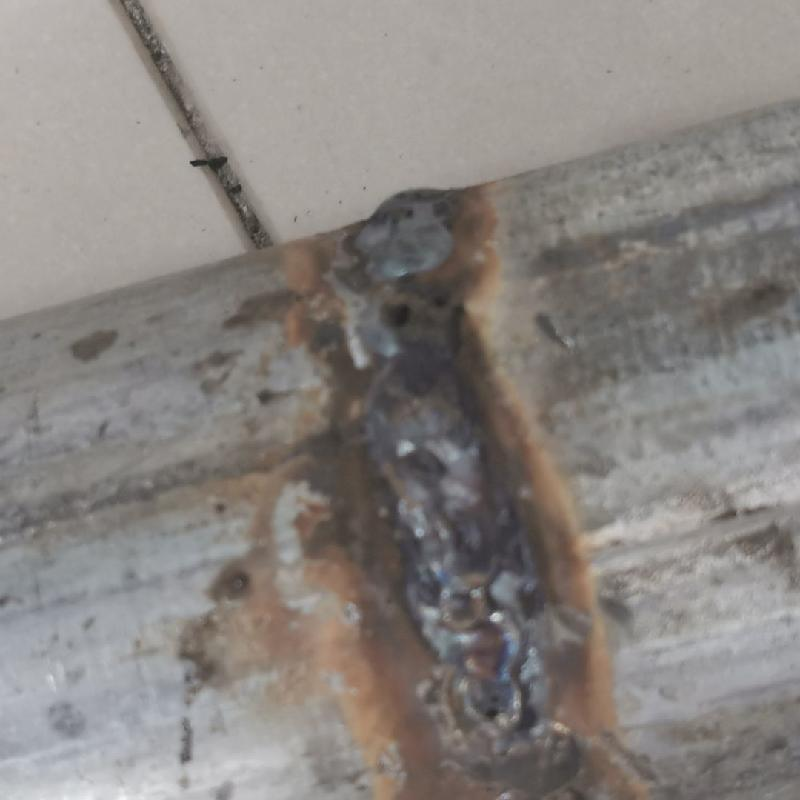Surface_pores: (358, 284, 464, 335), (476, 683, 517, 726)
crater: (375, 446, 540, 739)
wrong_size: (318, 199, 492, 430)
